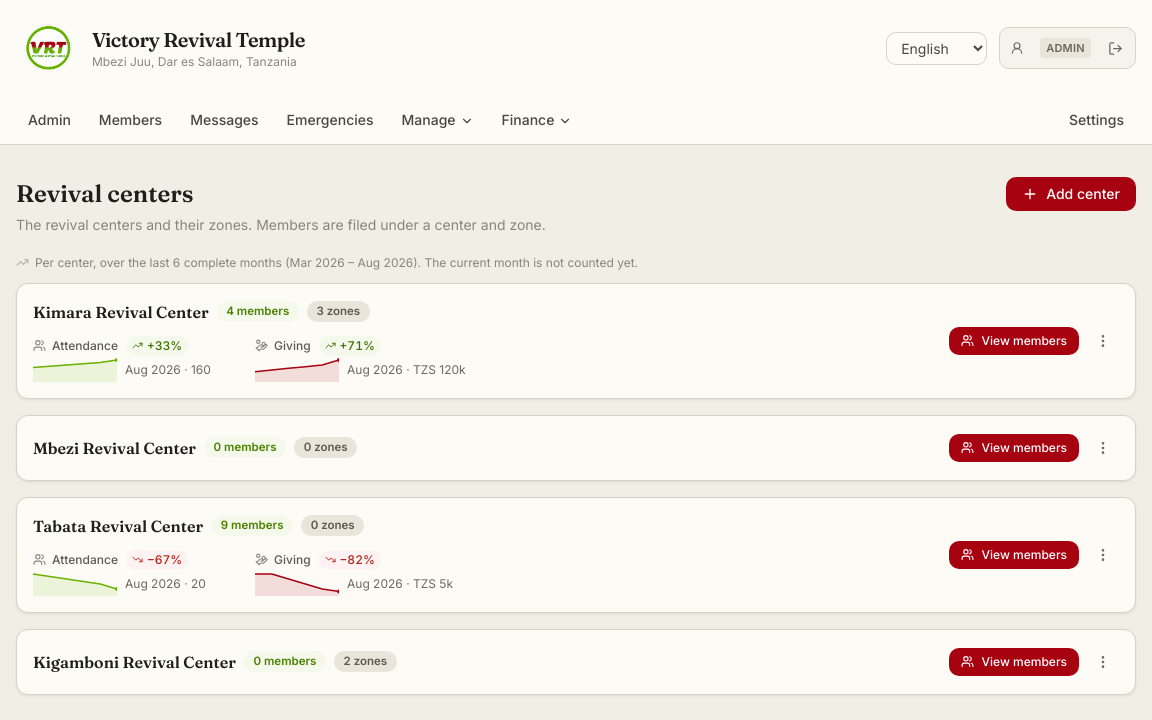
it: Revival Centers › states a zone leader as one plain line, not as a selected card
Expected: the button "Kimara Revival Center" is shown, [33, 300, 209, 324]
Click the button named "More actions" in the row of "+71%": click(1103, 340) [1087, 324, 1119, 356]
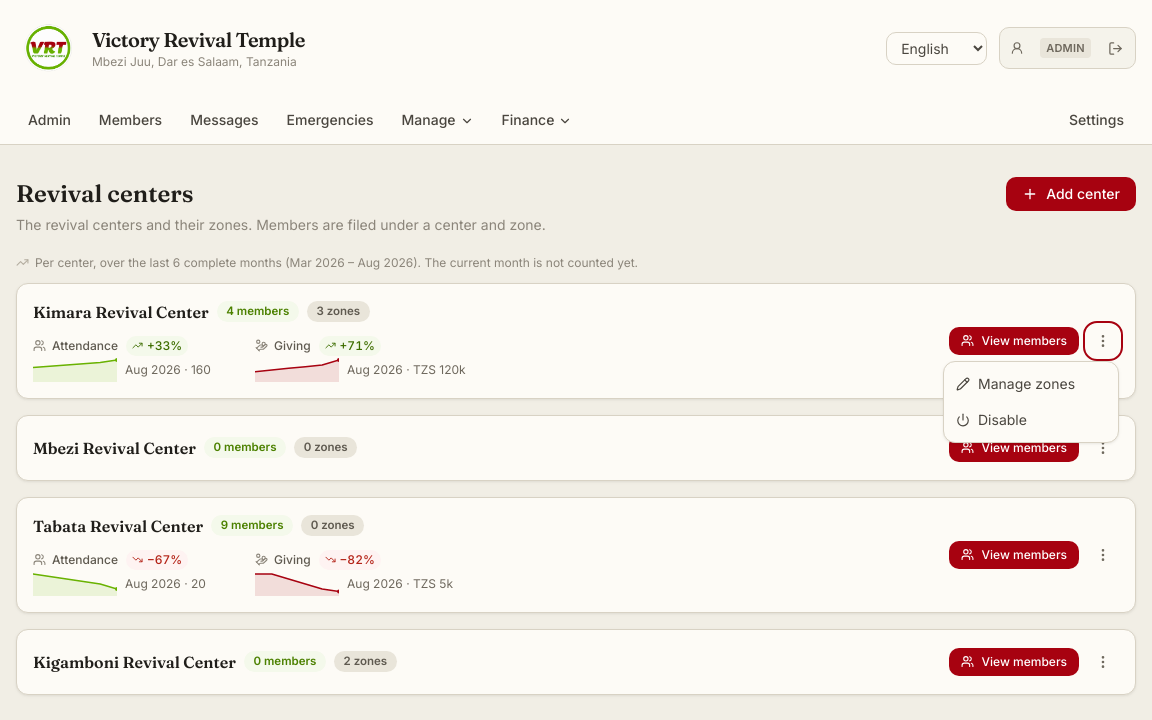
Click the menu item "Manage zones": click(1031, 384) [944, 366, 1118, 402]
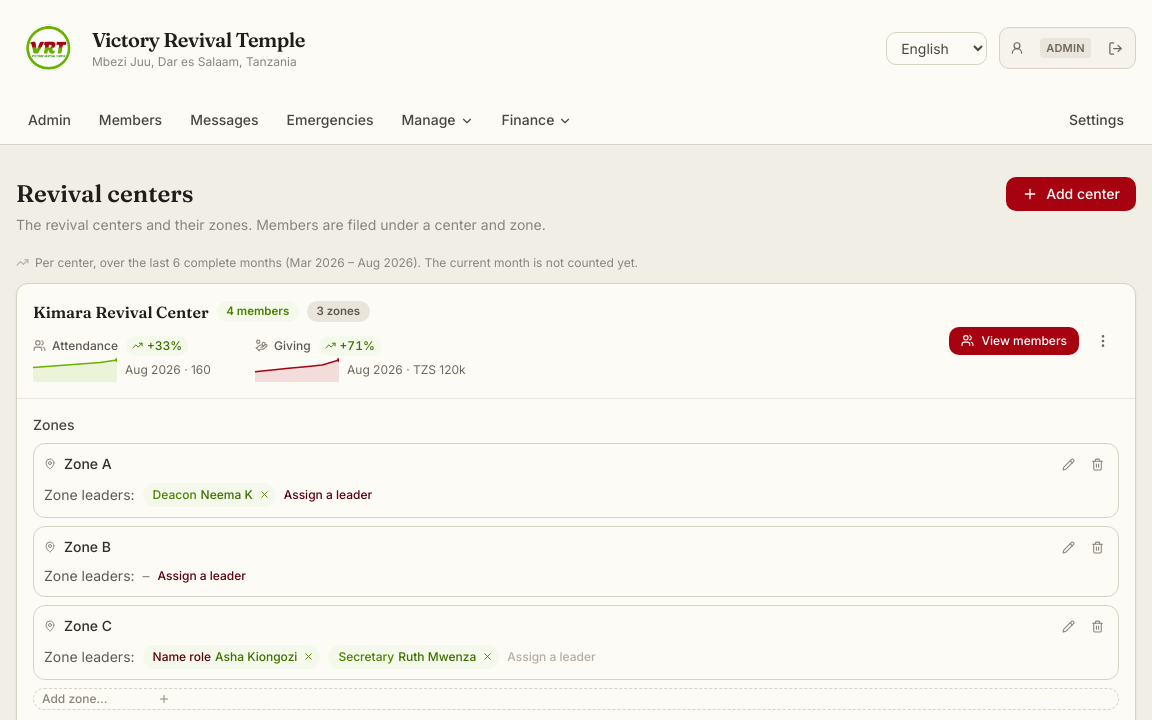
Expected: the text "Zone leaders:" is shown 3 times, [44, 484, 135, 504]; [44, 566, 135, 586]; [44, 646, 135, 666]
Expected: the text "Deacon" is shown, [153, 486, 197, 502]
Expected: the link "Neema K" is shown, [201, 486, 253, 502]
